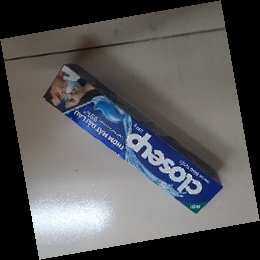CloseUp Tuyet: (41, 63, 223, 215)
